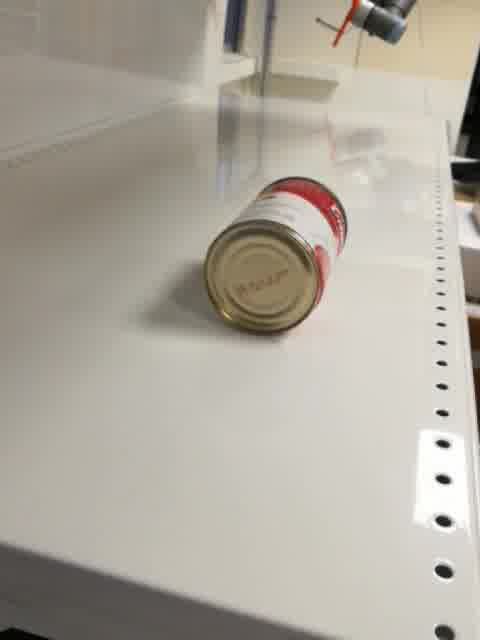tomatosoup: (204, 174, 349, 336)
